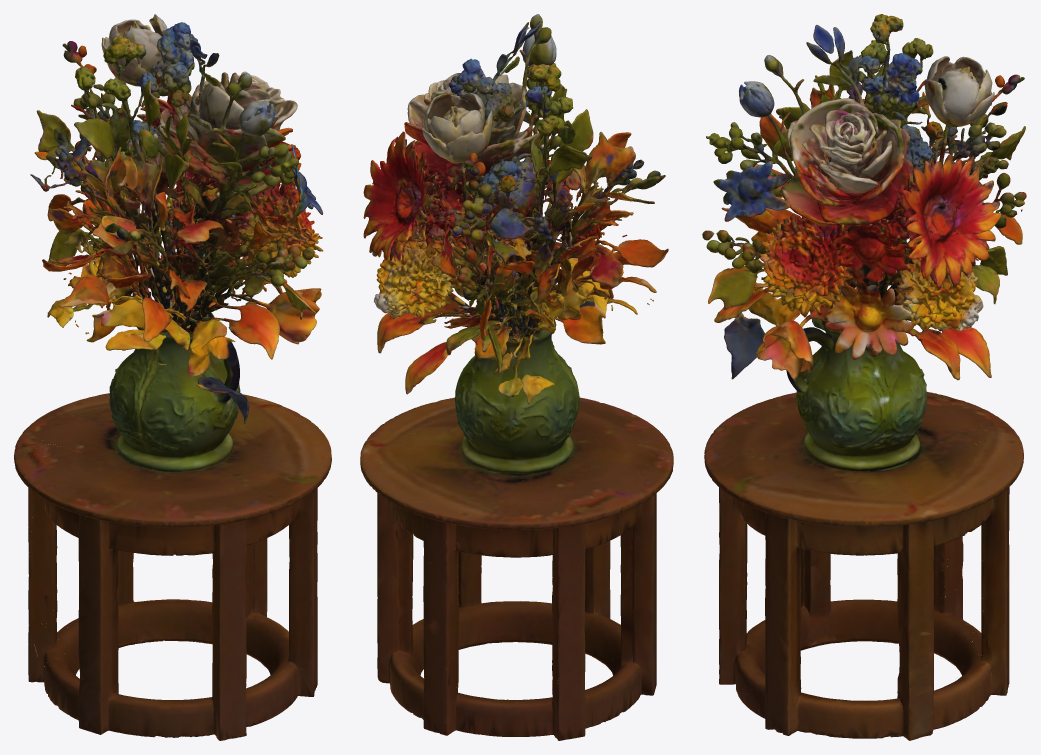
File: garden_whim_flowers-optimized.glb
3 renders of one model, left to right at view 1: azimuth 30°, elevation 25°; view 2: azimuth 150°, elevation 25°; view 3: azimuth 270°, elevation 25°, orthographic. The views are drawn at different scales.
Parts seen in each view (by area): view 1: Object_5, Object_6, Object_7, Object_20, Object_19, Object_4, Object_12, Object_13, Object_18, Object_21, Object_17, Object_15 (+7 smaller); view 2: Object_7, Object_5, Object_6, Object_20, Object_4, Object_13, Object_19, Object_12, Object_15, Object_17, Object_18, Object_14 (+7 smaller); view 3: Object_7, Object_6, Object_5, Object_13, Object_15, Object_14, Object_4, Object_8, Object_9, Object_17, Object_16, Object_19 (+7 smaller).
Part boxes in pixels (x1,y1,x2,y2): Object_5: (28, 37, 331, 738); Object_6: (17, 63, 327, 740); Object_7: (14, 20, 331, 720); Object_20: (14, 38, 298, 737); Object_19: (23, 39, 279, 738); Object_4: (17, 14, 314, 442); Object_12: (54, 41, 285, 480); Object_13: (30, 75, 325, 706); Object_18: (30, 35, 295, 712); Object_21: (36, 44, 316, 717); Object_17: (62, 25, 323, 710); Object_15: (116, 17, 329, 714); Object_7: (360, 70, 659, 739); Object_5: (365, 37, 668, 683); Object_6: (382, 27, 673, 737); Object_20: (495, 14, 667, 739); Object_4: (373, 34, 646, 557); Object_13: (361, 96, 656, 696); Object_19: (532, 65, 648, 728); Object_12: (492, 14, 598, 485); Object_15: (422, 73, 527, 735); Object_17: (462, 16, 567, 740); Object_18: (494, 21, 561, 736); Object_14: (400, 80, 464, 718); Object_7: (710, 43, 1021, 735); Object_6: (705, 60, 1026, 738); Object_5: (704, 42, 1023, 705); Object_13: (800, 40, 1011, 740); Object_15: (746, 69, 1009, 735); Object_14: (767, 78, 1019, 737); Object_4: (709, 20, 1022, 463); Object_8: (784, 73, 994, 359); Object_9: (743, 54, 990, 488); Object_17: (706, 25, 1024, 694); Object_16: (736, 53, 1026, 717); Object_19: (704, 17, 961, 691).
Bounding box in the file's own units: 0.8504 × 1.9 × 0.8482.
Materials: 1 (1 with a texture image).
